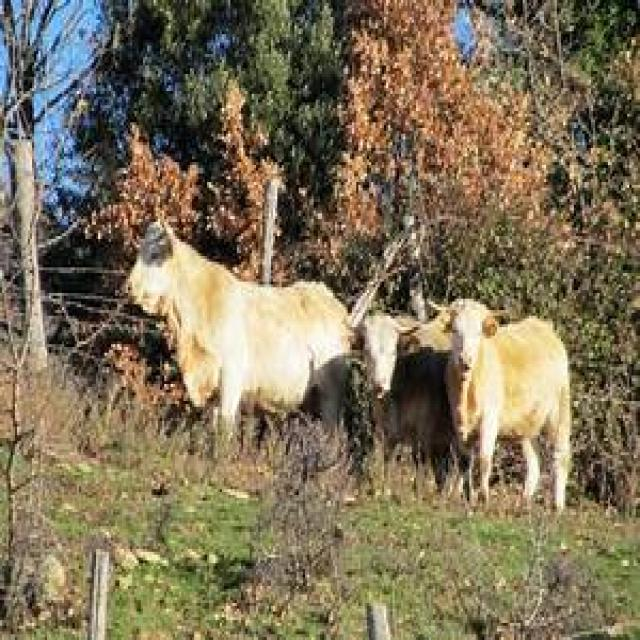animal: (114, 194, 358, 466), (431, 296, 572, 512), (348, 289, 426, 453)
